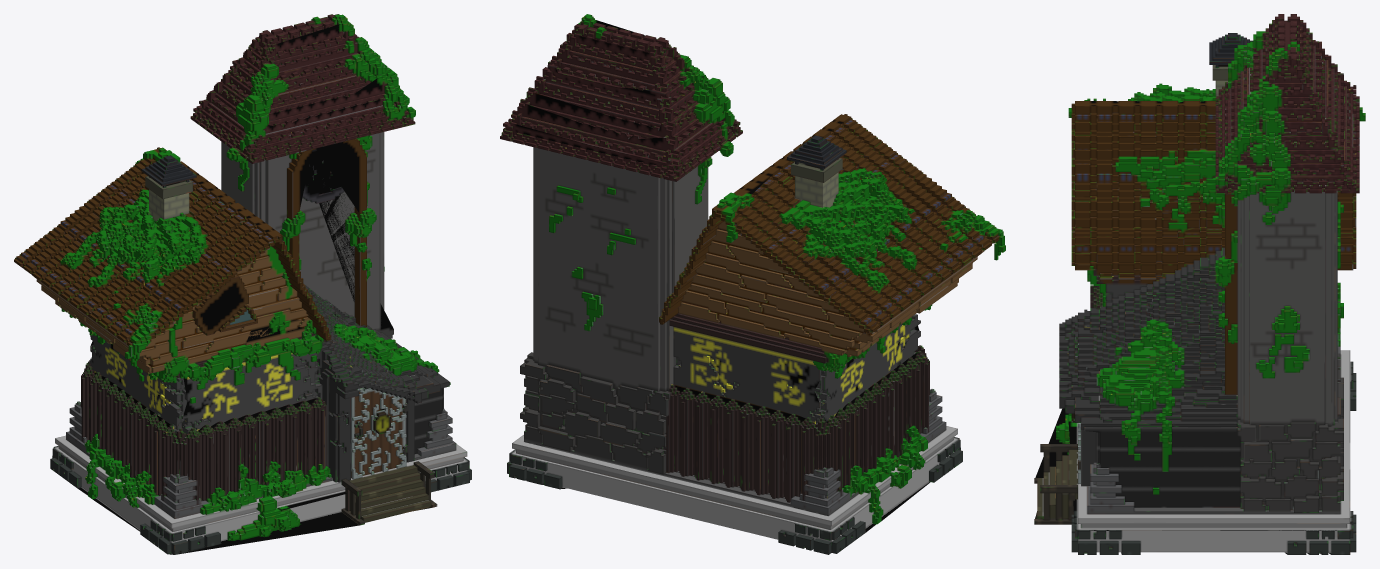
The model's file is MainHouse.fbx.
3 renders of one model, left to right at view 1: azimuth 30°, elevation 25°; view 2: azimuth 150°, elevation 25°; view 3: azimuth 270°, elevation 25°, orthographic. The views are drawn at different scales.
Visible parts, largest first — view 1: MainHouse; view 2: MainHouse; view 3: MainHouse.
Boxes of the visible parts, bbox=[...] form: MainHouse: bbox=[14, 14, 471, 554]; MainHouse: bbox=[500, 14, 1005, 554]; MainHouse: bbox=[1034, 14, 1365, 554].
Bounding box in the file's own units: 6040 × 4240 × 6760.
Materials: 1 (1 with a texture image).
